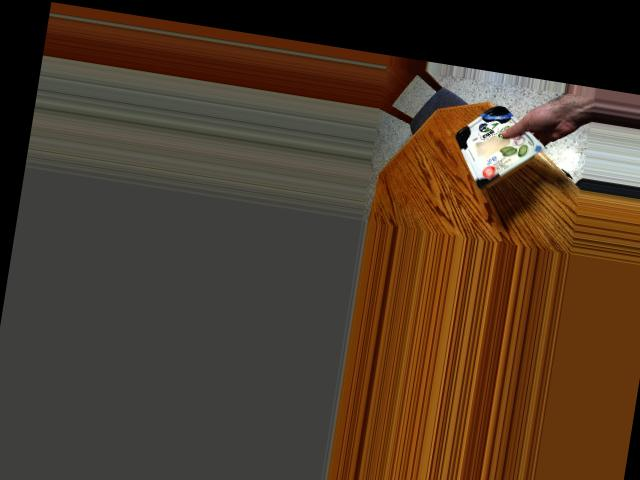cheese: (451, 111, 540, 183)
